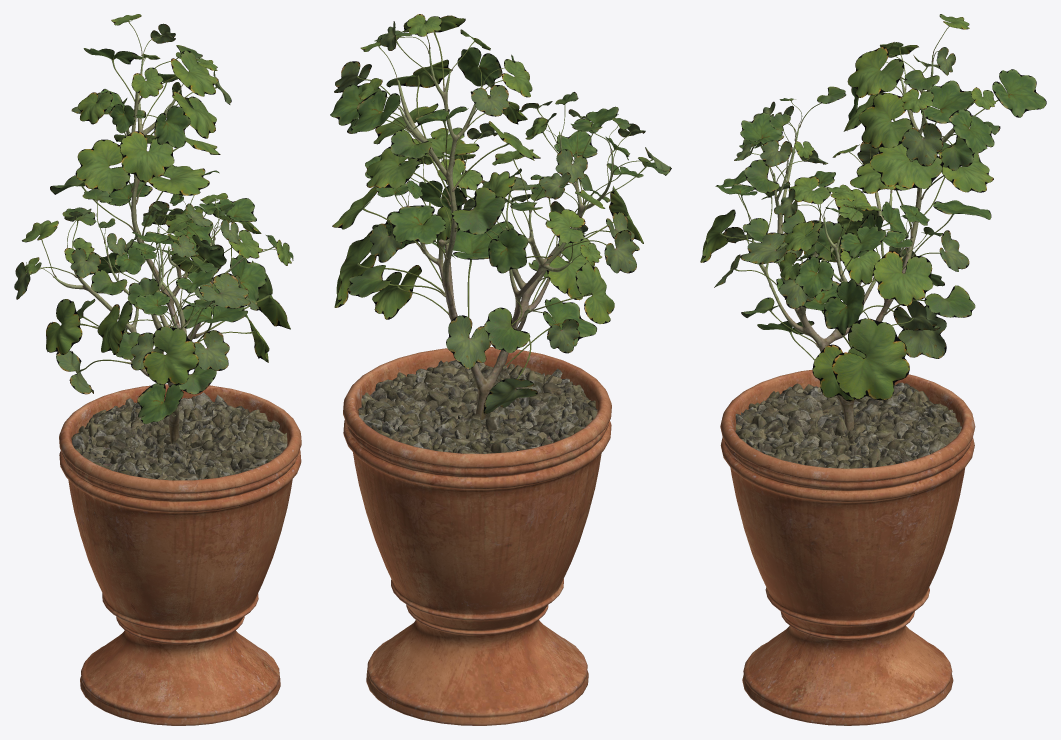
The model's file is potted_plant_01_4k-v2.glb.
The picture shows the model from 3 angles, left to right: view 1: azimuth 30°, elevation 25°; view 2: azimuth 150°, elevation 25°; view 3: azimuth 270°, elevation 25°; orthographic projection. The views are drawn at different scales.
Visible parts, largest first — view 1: potted_plant_01_pot, potted_plant_01_leaves, potted_plant_01_pebbles, potted_plant_01_stem; view 2: potted_plant_01_pot, potted_plant_01_leaves, potted_plant_01_pebbles, potted_plant_01_stem; view 3: potted_plant_01_pot, potted_plant_01_leaves, potted_plant_01_pebbles, potted_plant_01_stem.
Boxes of the visible parts, box(x1,y1,x2,y2) form: potted_plant_01_pot: box(59, 384, 301, 725); potted_plant_01_leaves: box(14, 14, 293, 423); potted_plant_01_pebbles: box(71, 392, 287, 480); potted_plant_01_stem: box(53, 54, 244, 443); potted_plant_01_pot: box(343, 347, 611, 725); potted_plant_01_leaves: box(330, 14, 671, 414); potted_plant_01_pebbles: box(358, 360, 597, 453); potted_plant_01_stem: box(397, 49, 612, 420); potted_plant_01_pot: box(720, 369, 975, 725); potted_plant_01_leaves: box(700, 14, 1046, 401); potted_plant_01_pebbles: box(735, 382, 961, 468); potted_plant_01_stem: box(751, 55, 966, 431).
Bounding box in the file's own units: 0.5874 × 1.34 × 0.6336.
2 materials, 2 textured.
